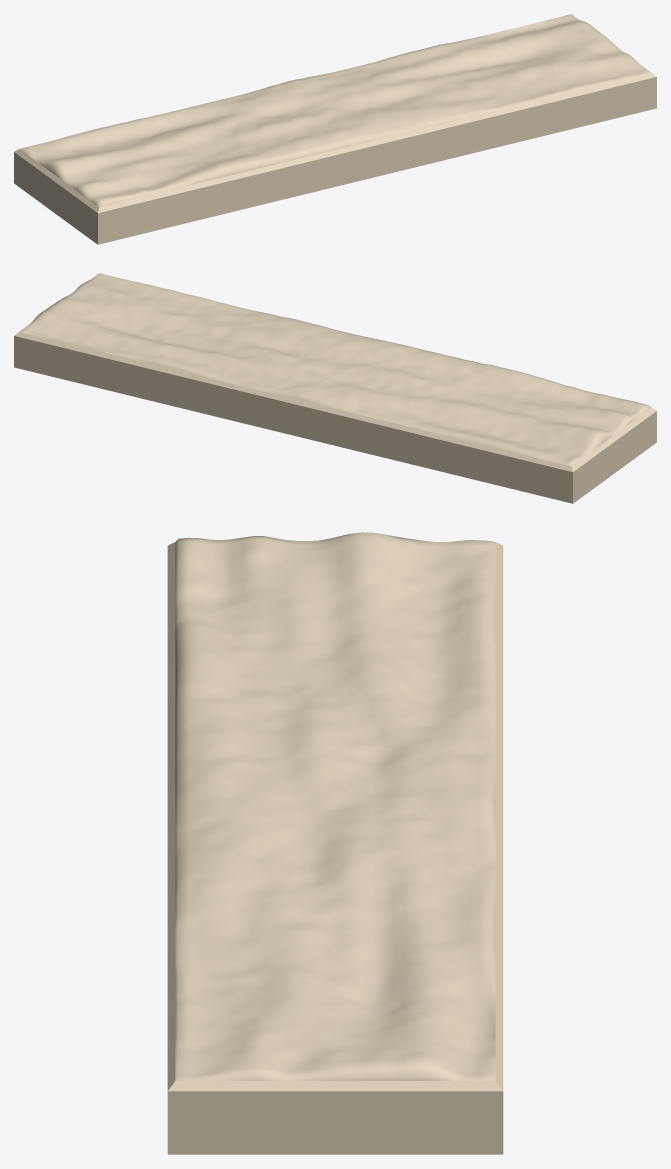
The model's file is mahsulot.glb.
The picture shows the model from 3 angles, top to bottom: view 1: azimuth 30°, elevation 25°; view 2: azimuth 150°, elevation 25°; view 3: azimuth 270°, elevation 25°; orthographic projection. The views are drawn at different scales.
Visible parts, largest first — view 1: mahsulot; view 2: mahsulot; view 3: mahsulot.
Boxes of the visible parts, left/top/right/bottom form: mahsulot: left=14, top=14, right=656, bottom=244; mahsulot: left=14, top=273, right=656, bottom=503; mahsulot: left=167, top=532, right=503, bottom=1154.
Bounding box in the file's own units: 0.25 × 0.0184 × 0.065.
